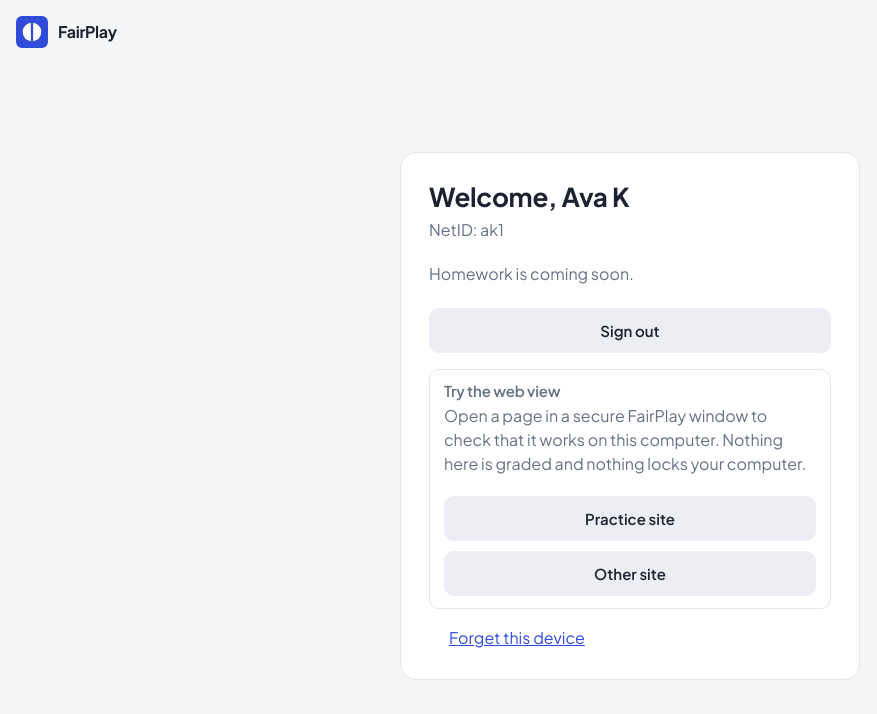
web view test section › shows the rate message on 429 and does not open a window
Step 1. Click the button "Practice site" → (630, 519), box [444, 496, 816, 542]
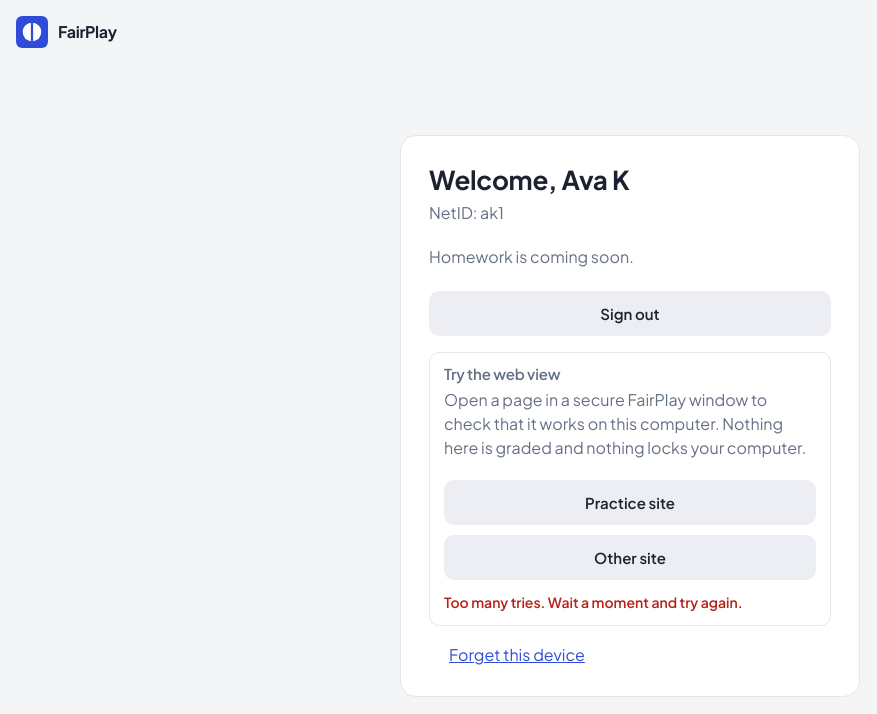
Expected: the button "Practice site" is enabled, [444, 480, 816, 525]
Expected: the message reads "Too many tries. Wait a moment and try again.", [444, 593, 742, 611]
